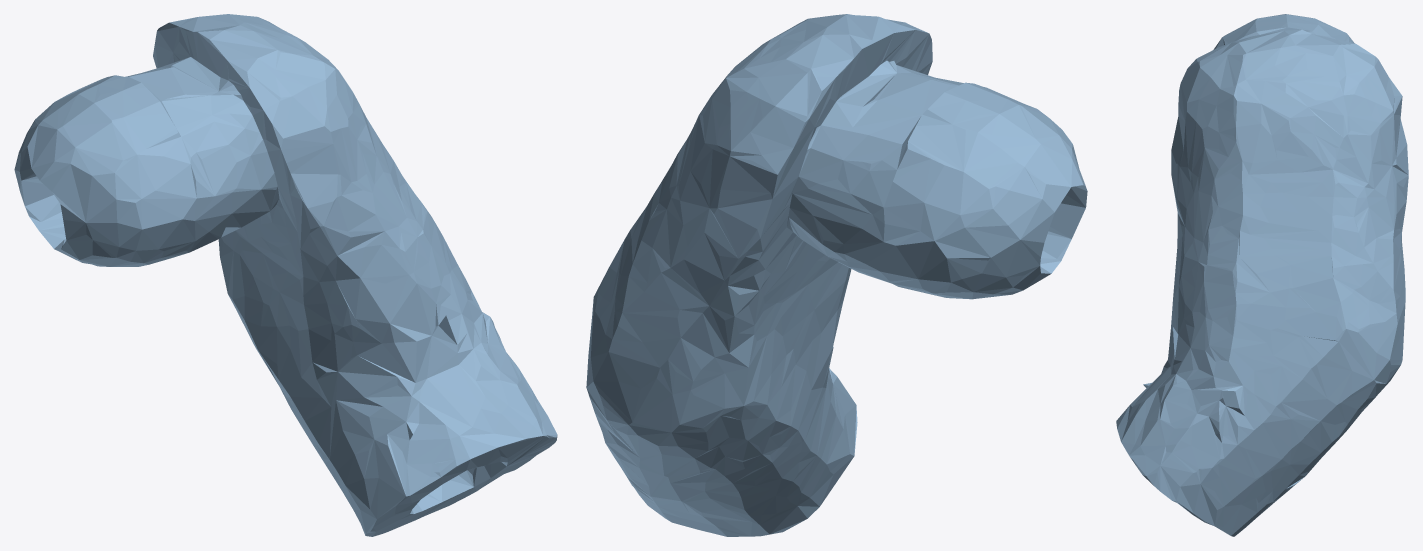
Rendered from spider-0.glb.
3 renders of one model, left to right at view 1: azimuth 30°, elevation 25°; view 2: azimuth 150°, elevation 25°; view 3: azimuth 270°, elevation 25°, orthographic. The views are drawn at different scales.
Visible parts, largest first — view 1: part_00; view 2: part_00; view 3: part_00.
Part boxes in pixels (x1,y1,x2,y2): part_00: (14, 14, 557, 536); part_00: (586, 14, 1087, 536); part_00: (1116, 14, 1408, 536).
Size of the model in its own units: 0.2426 by 0.2597 by 0.162.
